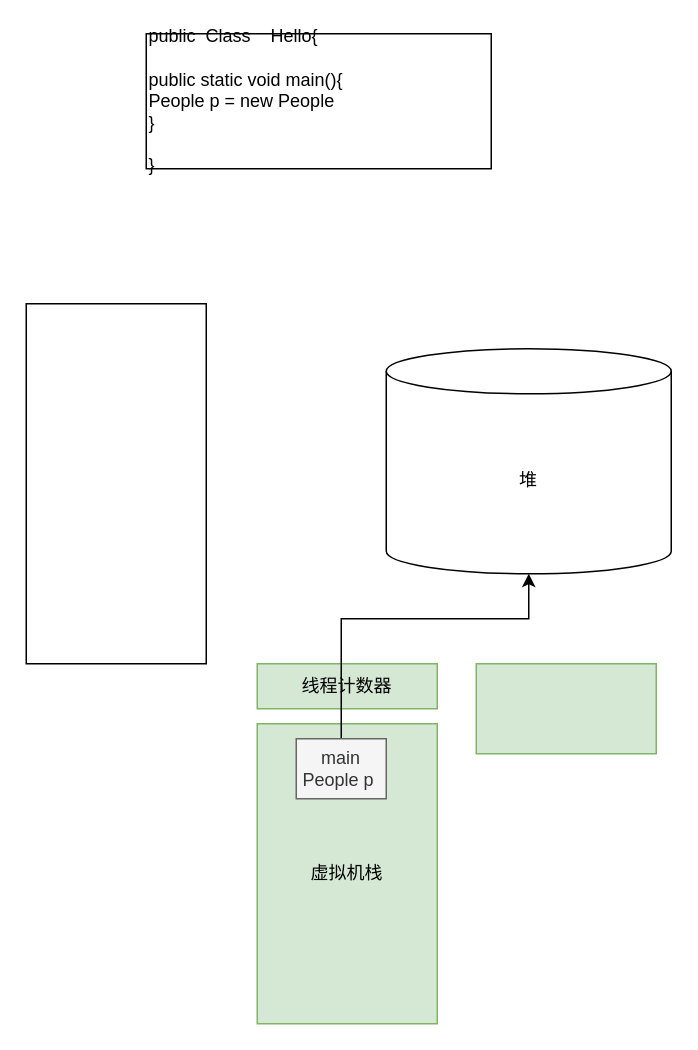
This 698x1050 diagram has some shape labels left out. Each missing label, with the centre of its shape:
"方法区 存放（对象、）" belongs at (115,483).
"本地方法区" belongs at (565,708).
